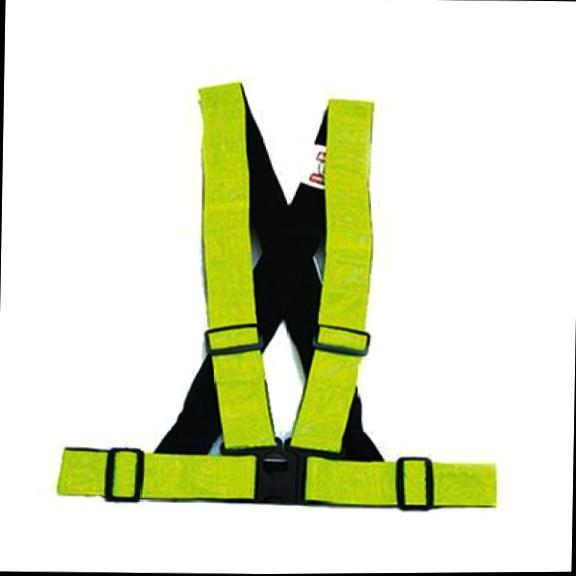safety_vest: (54, 73, 506, 515)
